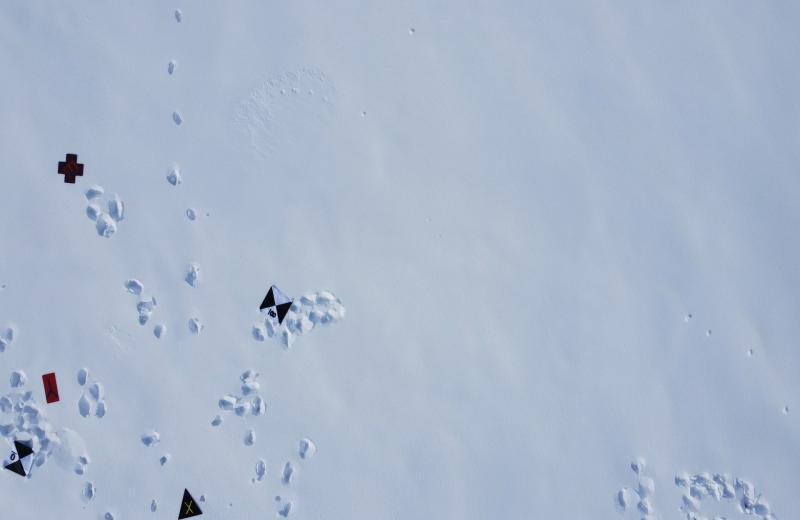Cross: (56, 151, 87, 184)
Rectangle: (38, 370, 62, 407)
Triangle: (176, 483, 204, 520)
